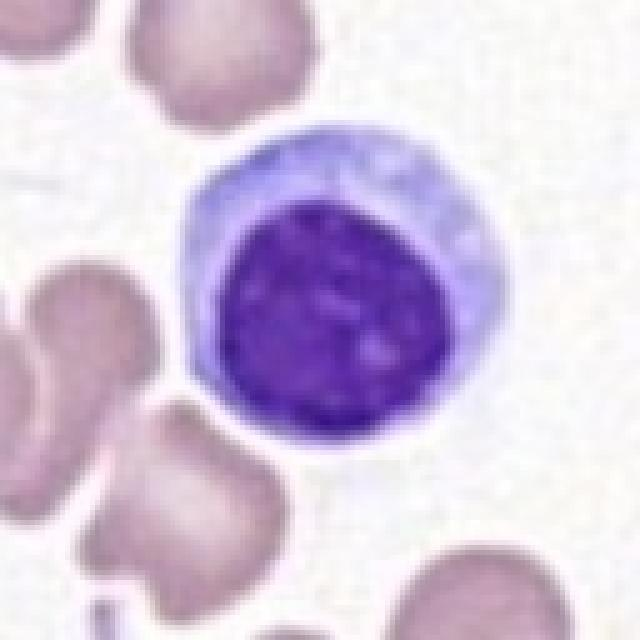lympho: (176, 118, 517, 449)
